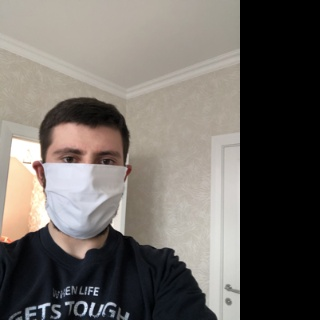with_mask: (43, 138, 126, 239)
